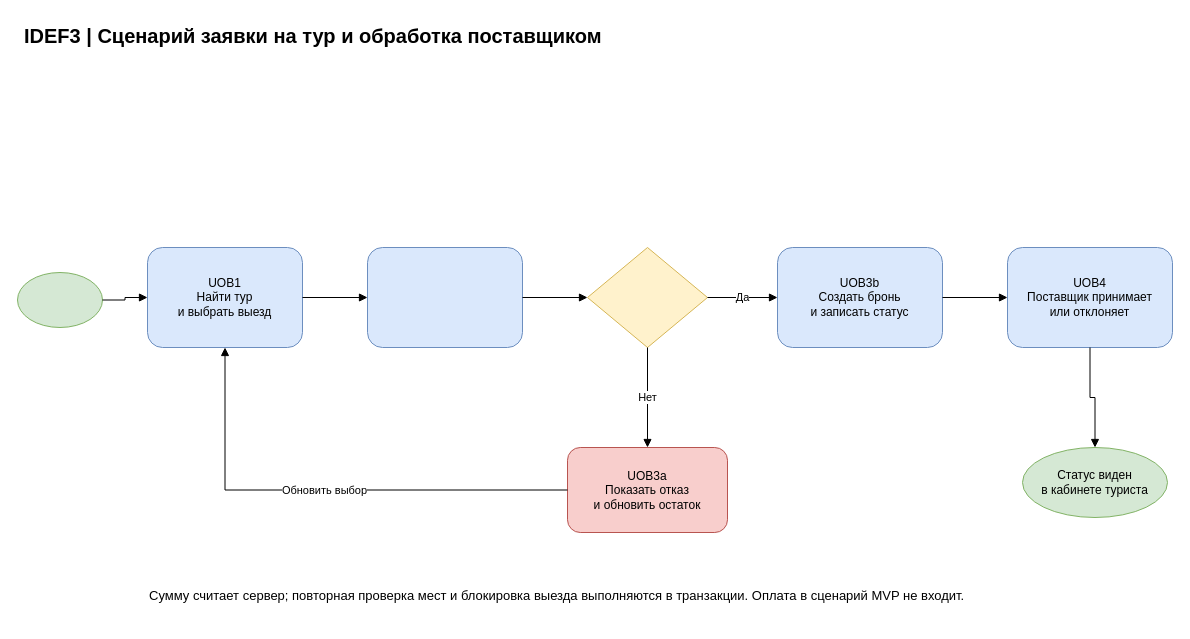
This 1190x639 diagram has some shape labels left out. The shapes that lost their labels are listed below. From the top down, each one's centre as x and y in pixels, then its label:
At [59,300]: "Старт".
At [444,297]: "UOB2 Проверить наличие мест и цену".
At [647,297]: "Места доступны?".
